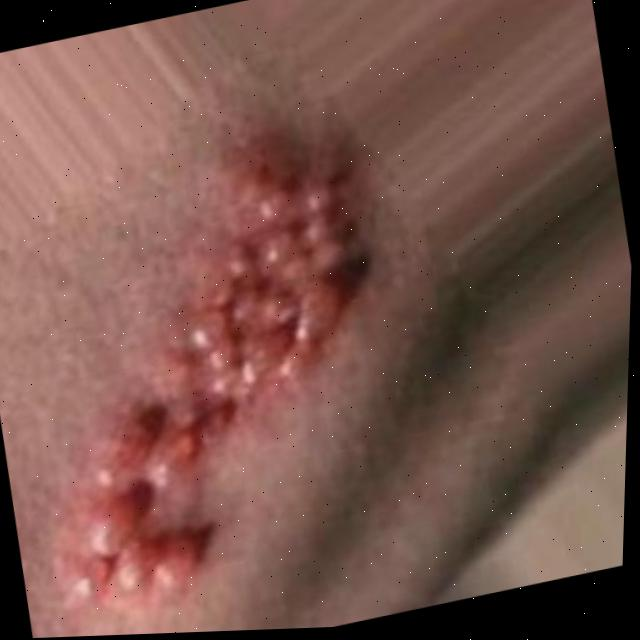Shingles: (0, 143, 417, 621)
